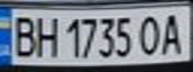1: (60, 15, 81, 58)
3: (97, 15, 118, 60)
5: (112, 14, 139, 58)
7: (78, 15, 100, 58)
A: (157, 10, 187, 56)
B: (6, 12, 39, 59)
H: (33, 12, 60, 59)
O: (136, 12, 163, 57)
